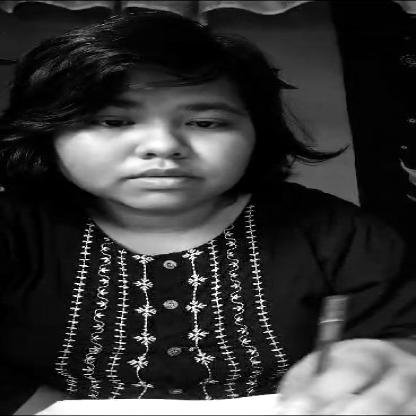Normal: (45, 51, 276, 211)
